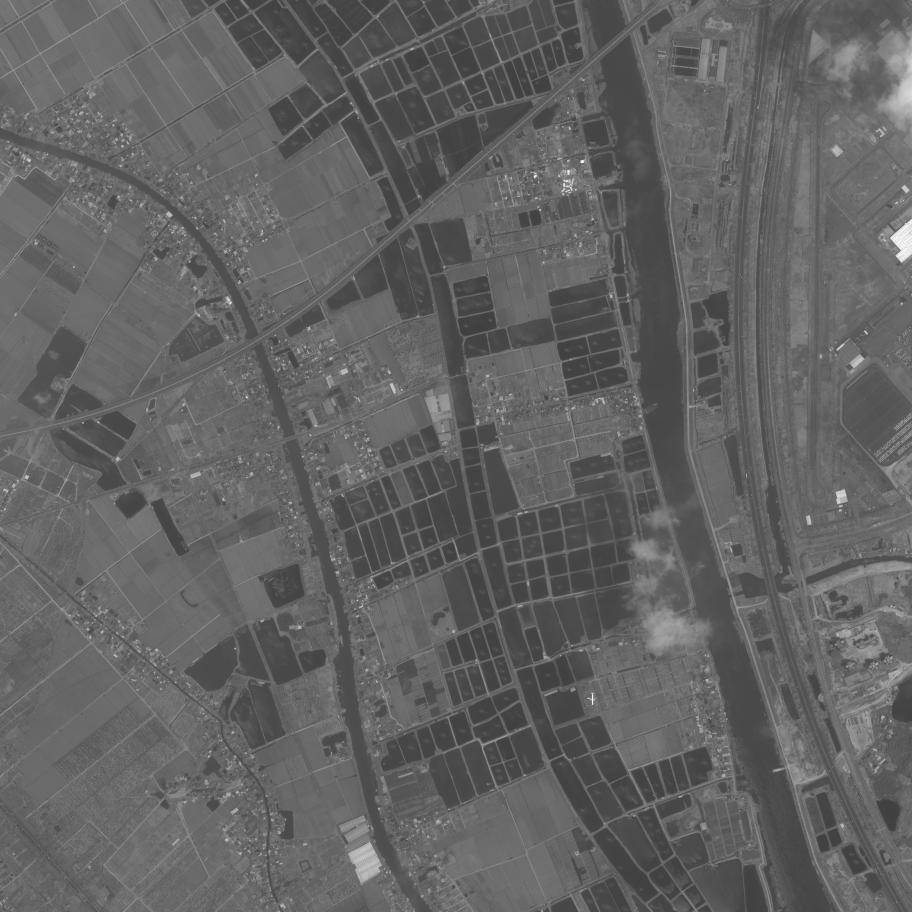plane: (586, 691, 599, 707)
ship: (643, 402, 659, 413), (645, 406, 659, 415), (339, 635, 344, 647)
